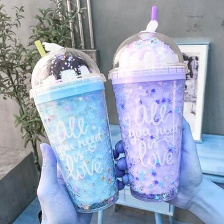glass: (26, 45, 123, 213), (106, 31, 192, 206)
